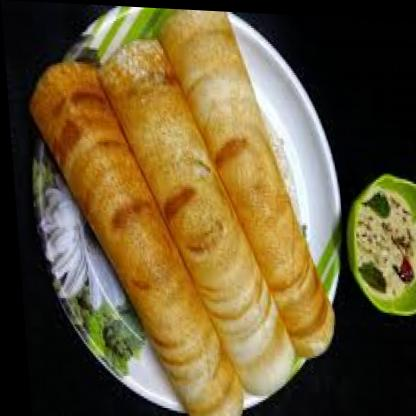dosa: (26, 59, 239, 416), (94, 35, 291, 394), (157, 6, 331, 356)
